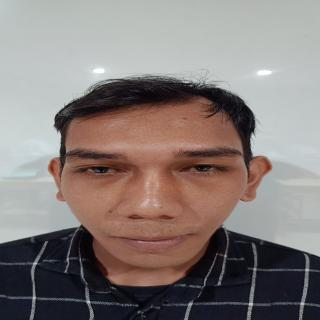Netral: (54, 99, 266, 276)
